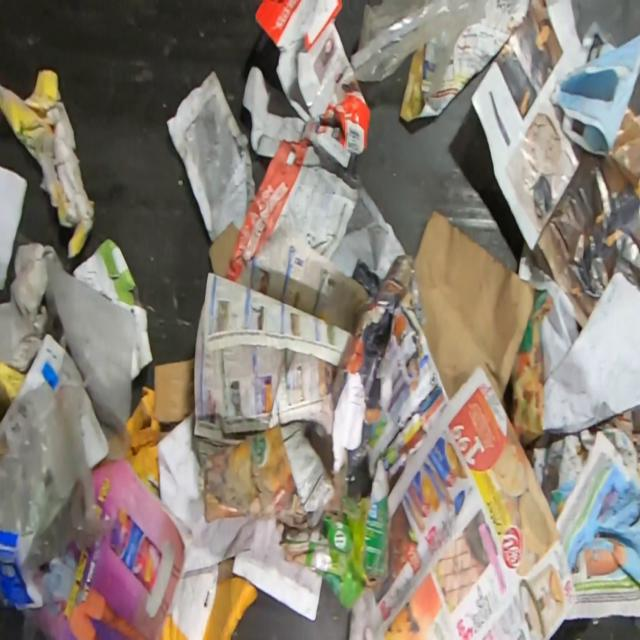cardboard: (414, 210, 536, 406), (241, 0, 373, 170), (0, 69, 96, 260), (284, 495, 392, 613), (153, 358, 194, 423), (208, 221, 242, 278)
soft_plastic: (0, 380, 117, 571), (351, 0, 488, 95)
